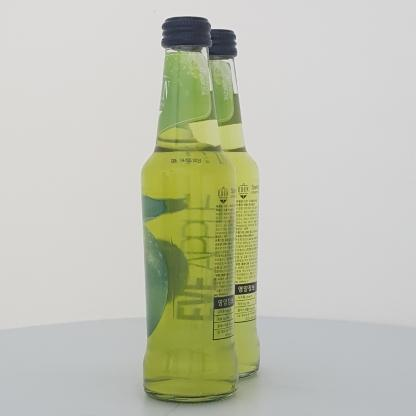----------------: (140, 17, 239, 403)
